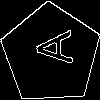A: (26, 29, 73, 66)
